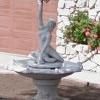Statue: (19, 8, 72, 95)
